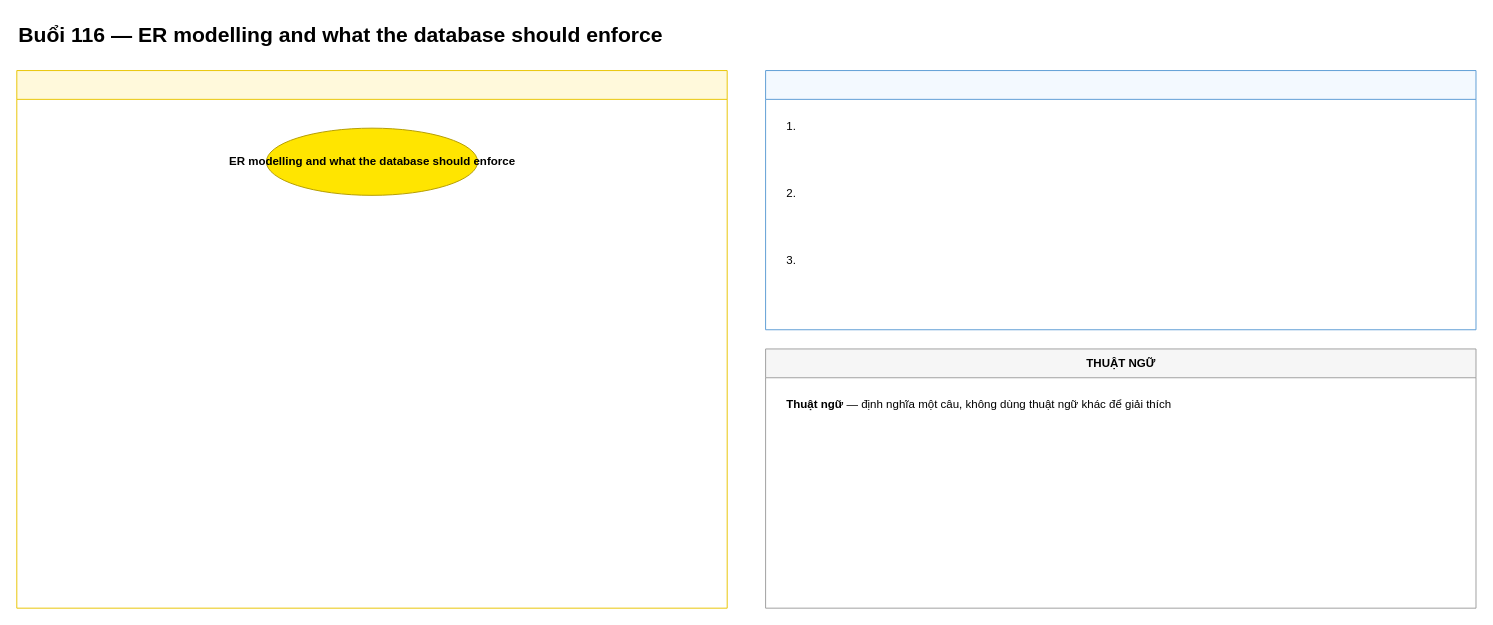
Image size: 1493x625. Some labels were removed from this diagram. The box of each missing label's shape, as (x1, y1, x2, y2) in pixels:
KEY TAKEAWAY — ba điều phải nhớ: (765, 70, 1476, 330)
MINDMAP: (16, 70, 727, 608)
